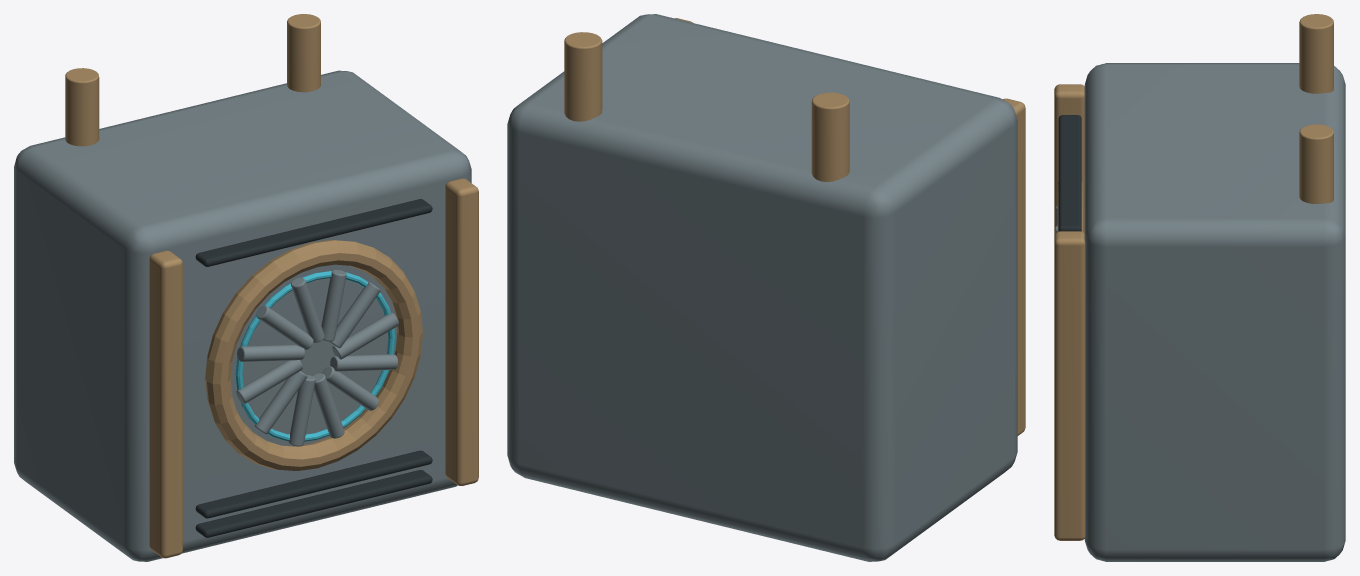
Rendered from turbine.fbx.
The picture shows the model from 3 angles, left to right: view 1: azimuth 30°, elevation 25°; view 2: azimuth 150°, elevation 25°; view 3: azimuth 270°, elevation 25°; orthographic projection. The views are drawn at different scales.
Visible parts, largest first — view 1: turbine; view 2: turbine; view 3: turbine.
Boxes of the visible parts, x1,y1,x2,y2 form: turbine: (14,14,478,561); turbine: (507,14,1025,561); turbine: (1054,14,1345,561).
Size of the model in its own units: 280 by 310 by 201.
